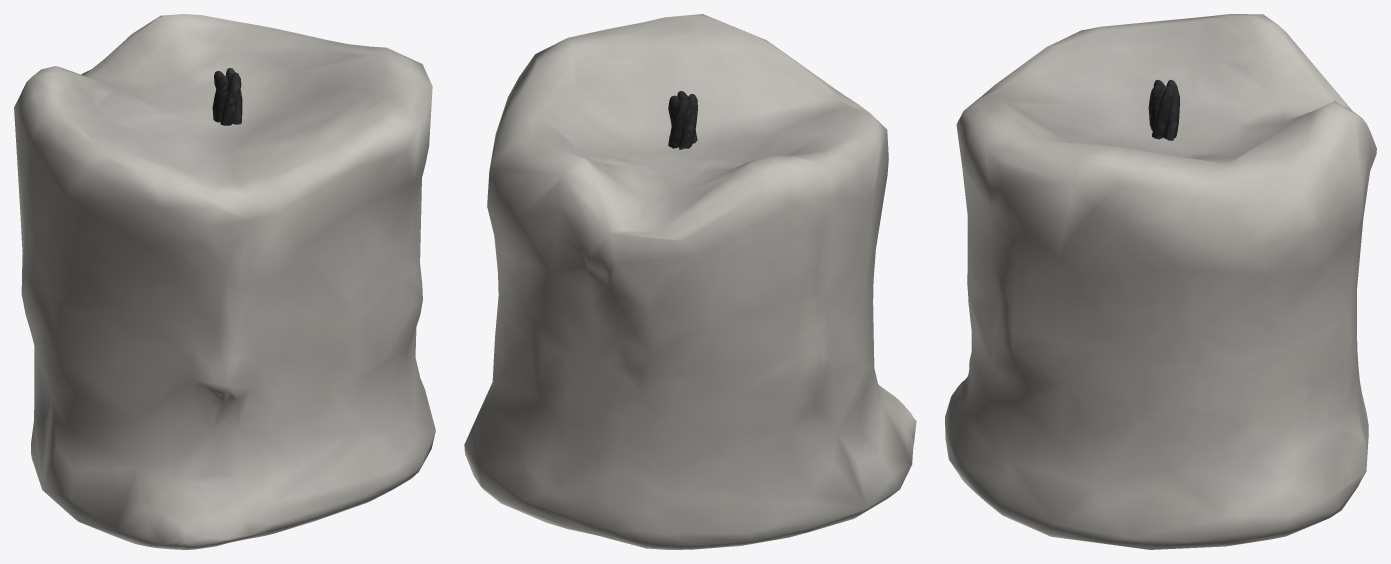
File: decor_candle_a01.glb
The picture shows the model from 3 angles, left to right: view 1: azimuth 30°, elevation 25°; view 2: azimuth 150°, elevation 25°; view 3: azimuth 270°, elevation 25°; orthographic projection. The views are drawn at different scales.
Visible parts, largest first — view 1: sm_decor_candle_a01_01; view 2: sm_decor_candle_a01_01; view 3: sm_decor_candle_a01_01.
Part boxes in pixels (x1,y1,x2,y2): sm_decor_candle_a01_01: (14, 14, 435, 549); sm_decor_candle_a01_01: (464, 14, 916, 549); sm_decor_candle_a01_01: (945, 14, 1376, 549).
Size of the model in its own units: 0.0745 by 0.0752 by 0.0746.
2 materials, 2 textured.
